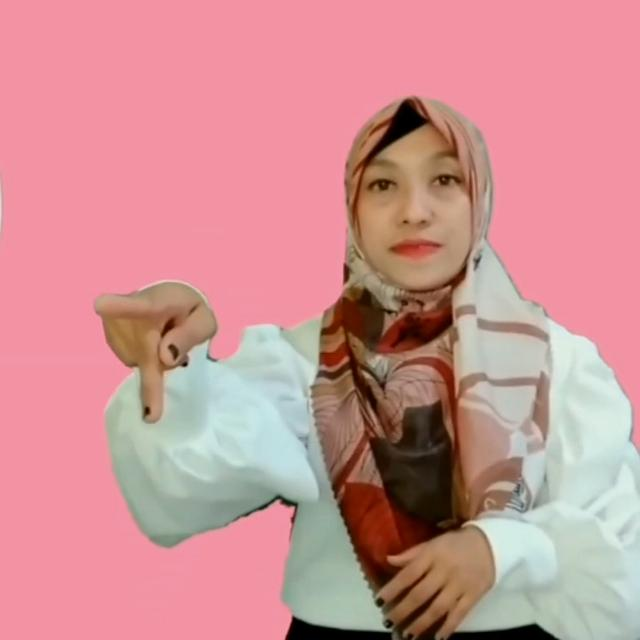P: (90, 280, 218, 424)
